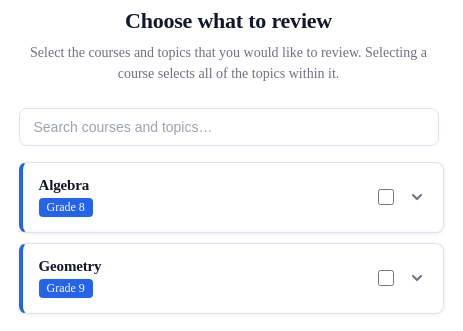
CourseList › matches on course name and shows all that course's topics
Expected: the text "Algebra" is shown, x1=38 y1=177 x2=93 y2=194
Type "algeb" into the search field.
click(228, 127); type("algeb")  # box x1=18 y1=108 x2=438 y2=146
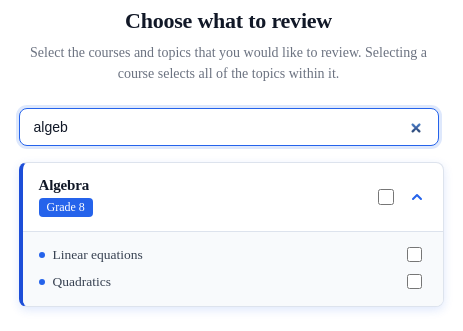
Expected: the text "Linear equations" is shown, x1=52 y1=246 x2=143 y2=262
Now the text "Geometry" is gone
